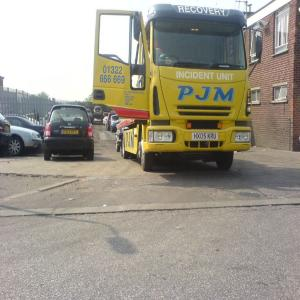Vehicle-registration-plate: (193, 133, 219, 141), (62, 130, 79, 135)
